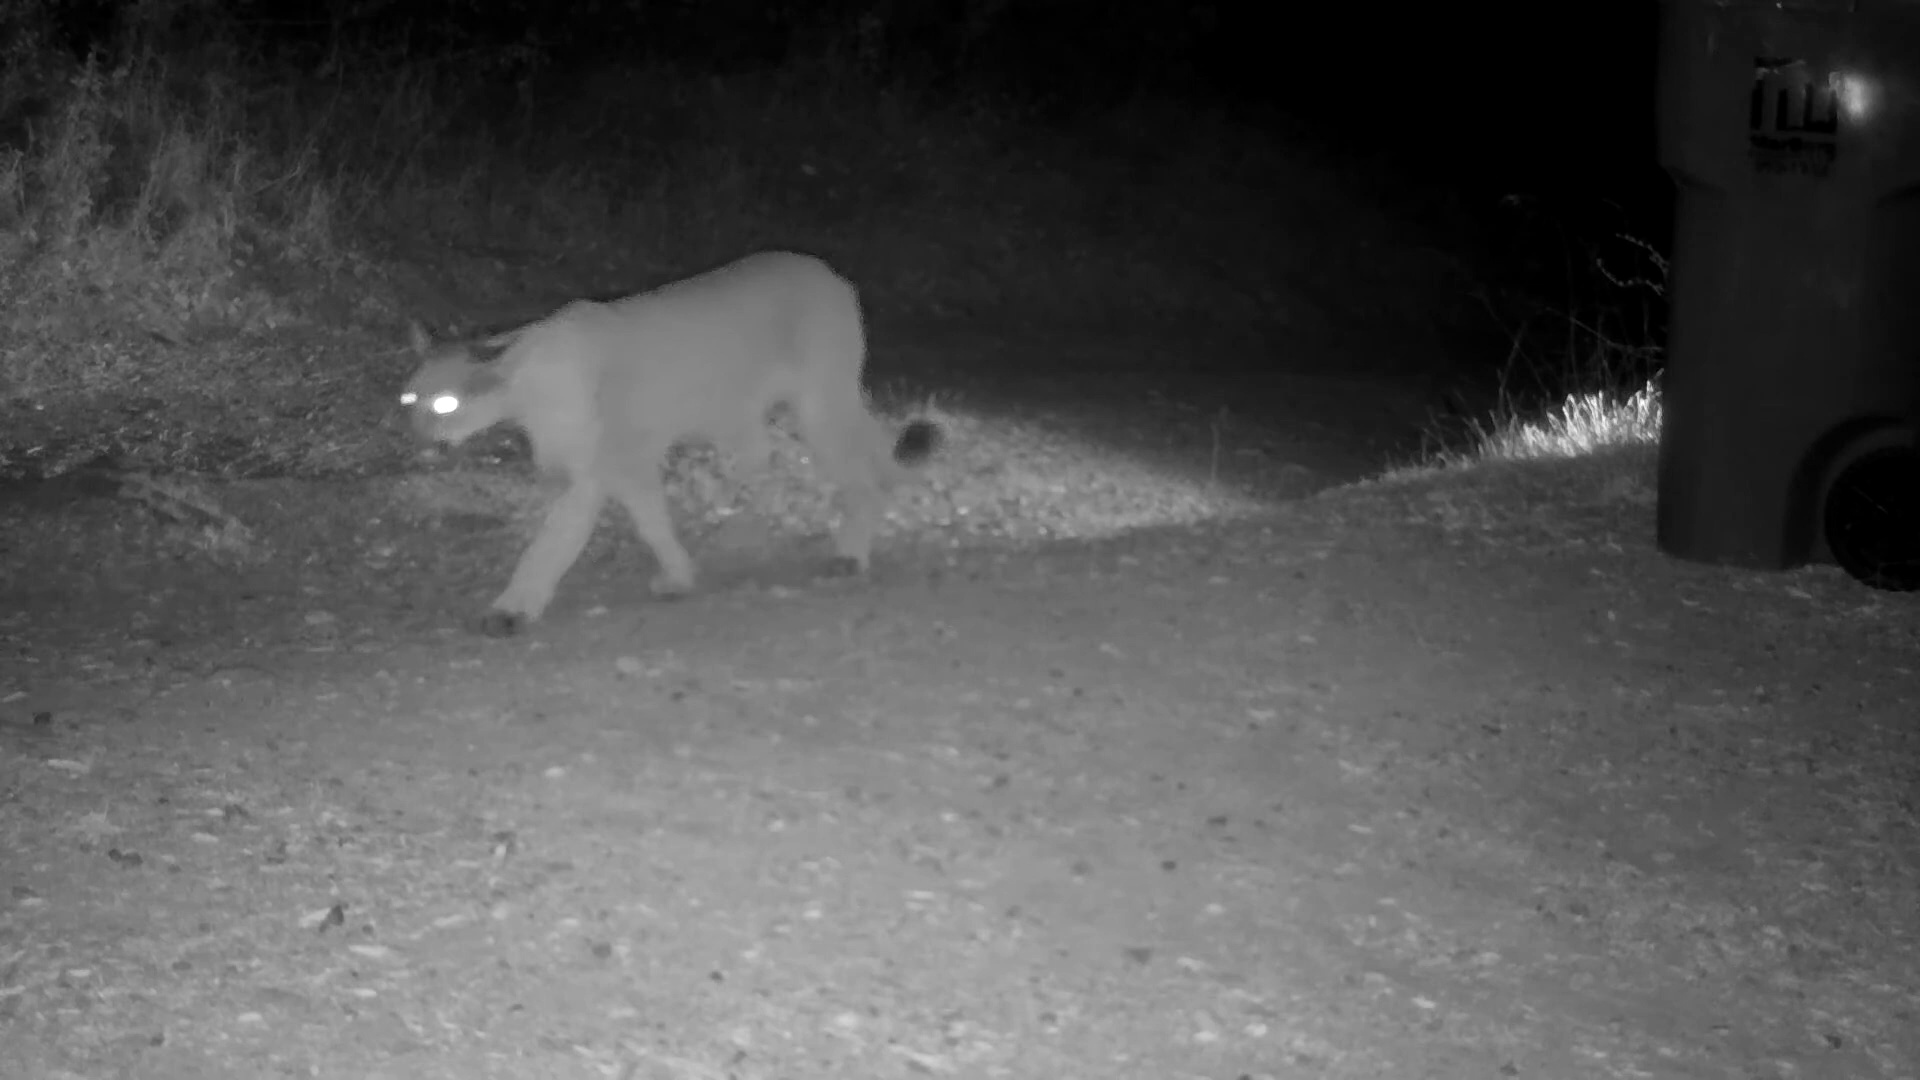Lion: (396, 247, 948, 636)
